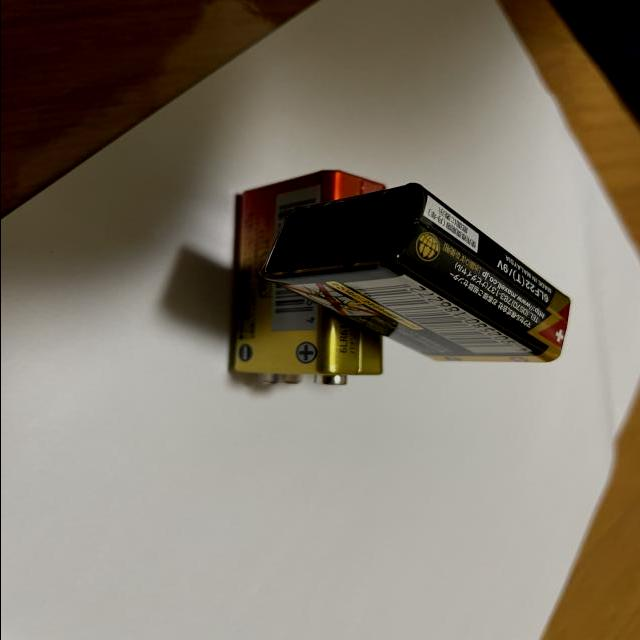9V: (263, 182, 569, 365), (230, 170, 385, 386)
